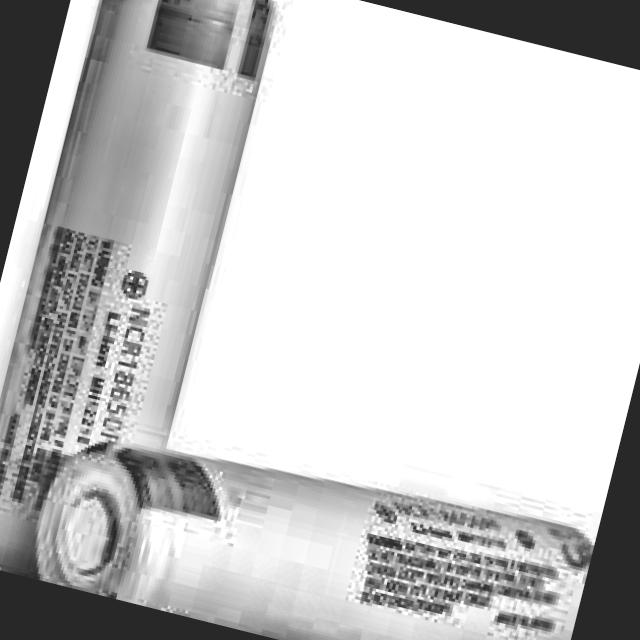Battery: (0, 0, 282, 602), (35, 404, 597, 640)
